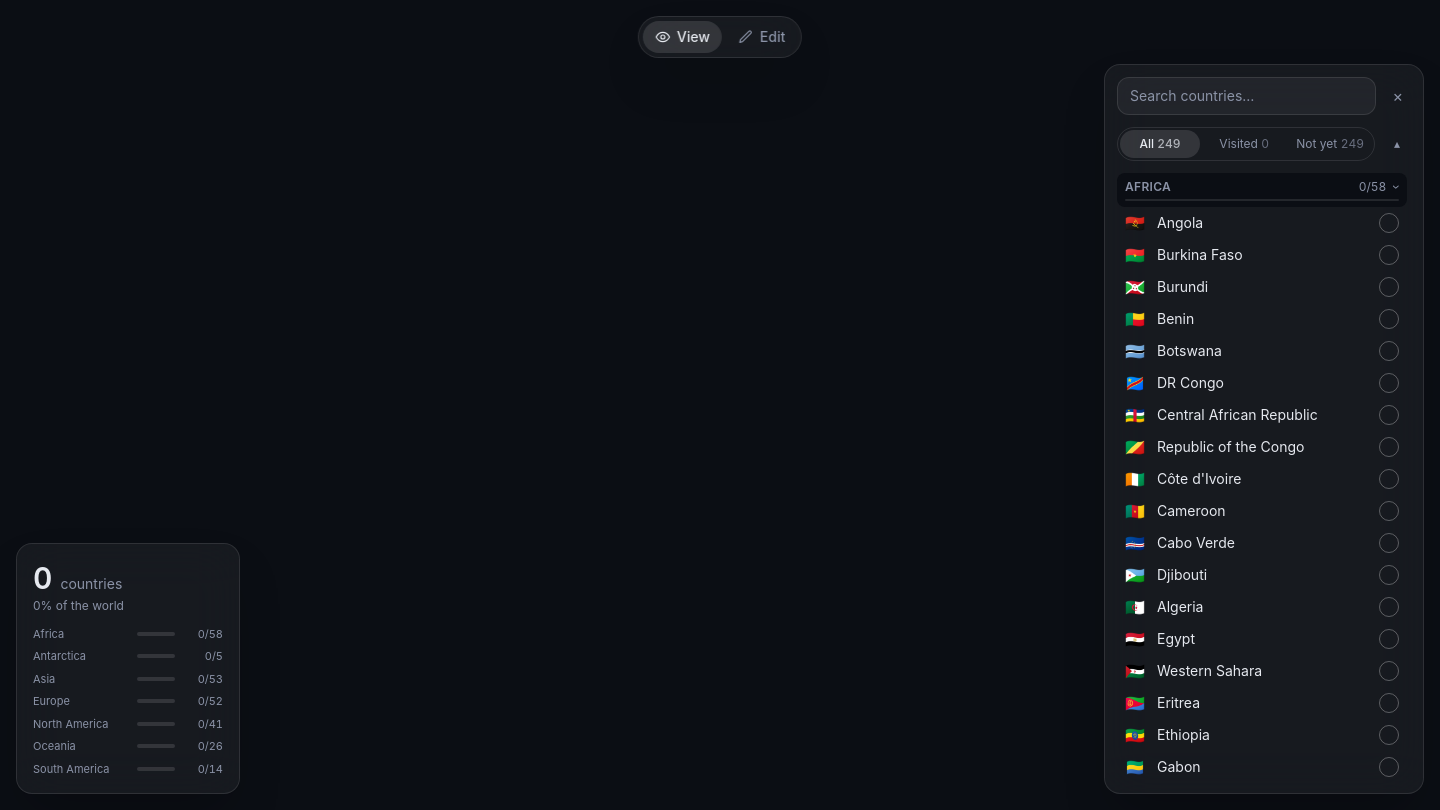
Test: HomePage › folds and unfolds every region at once
This screenshot has width=1440, height=810.
Click the button with test id "fold-all": (1397, 144) [1383, 130, 1411, 158]
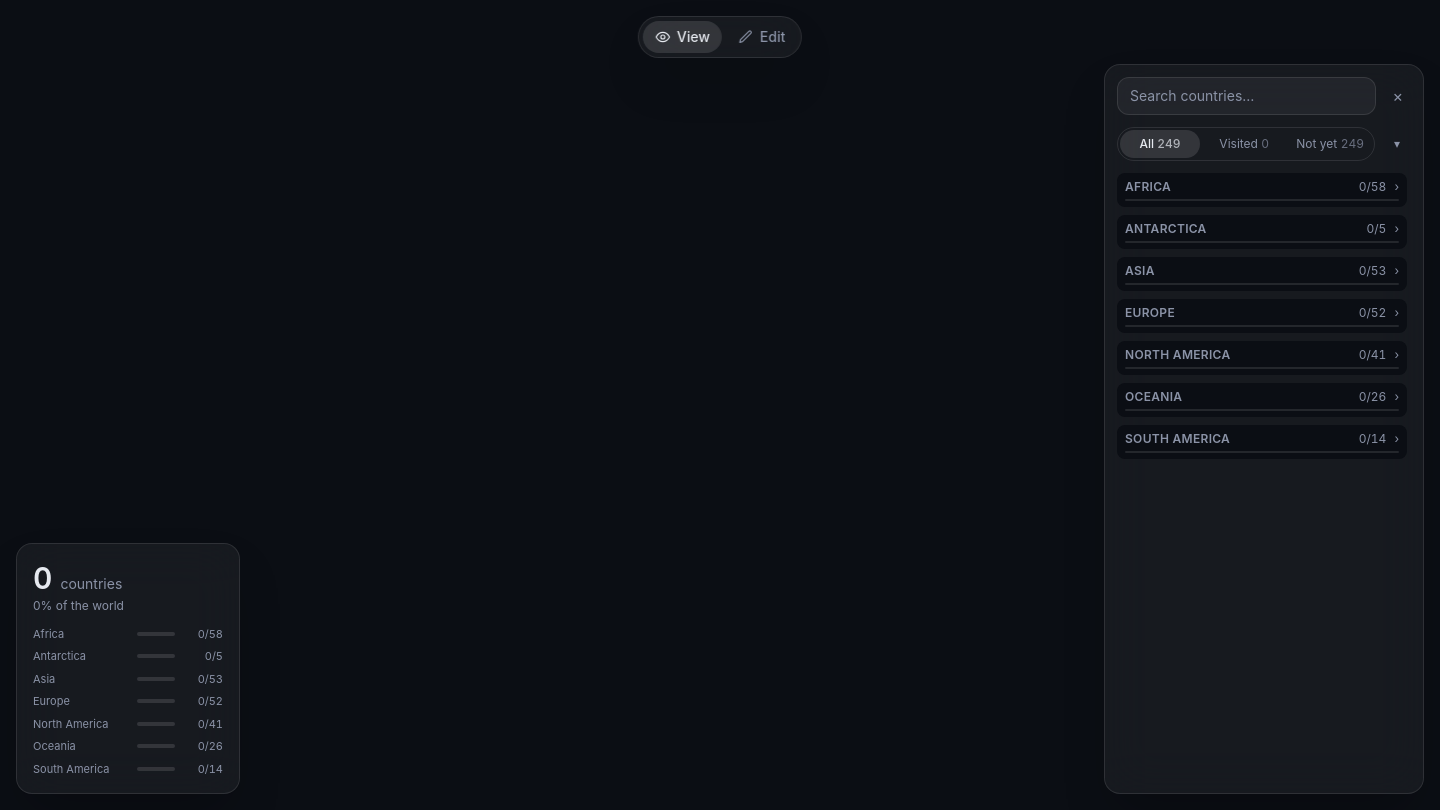
Click the button with test id "fold-all": (1397, 144) [1383, 130, 1411, 158]
(page scrolled)
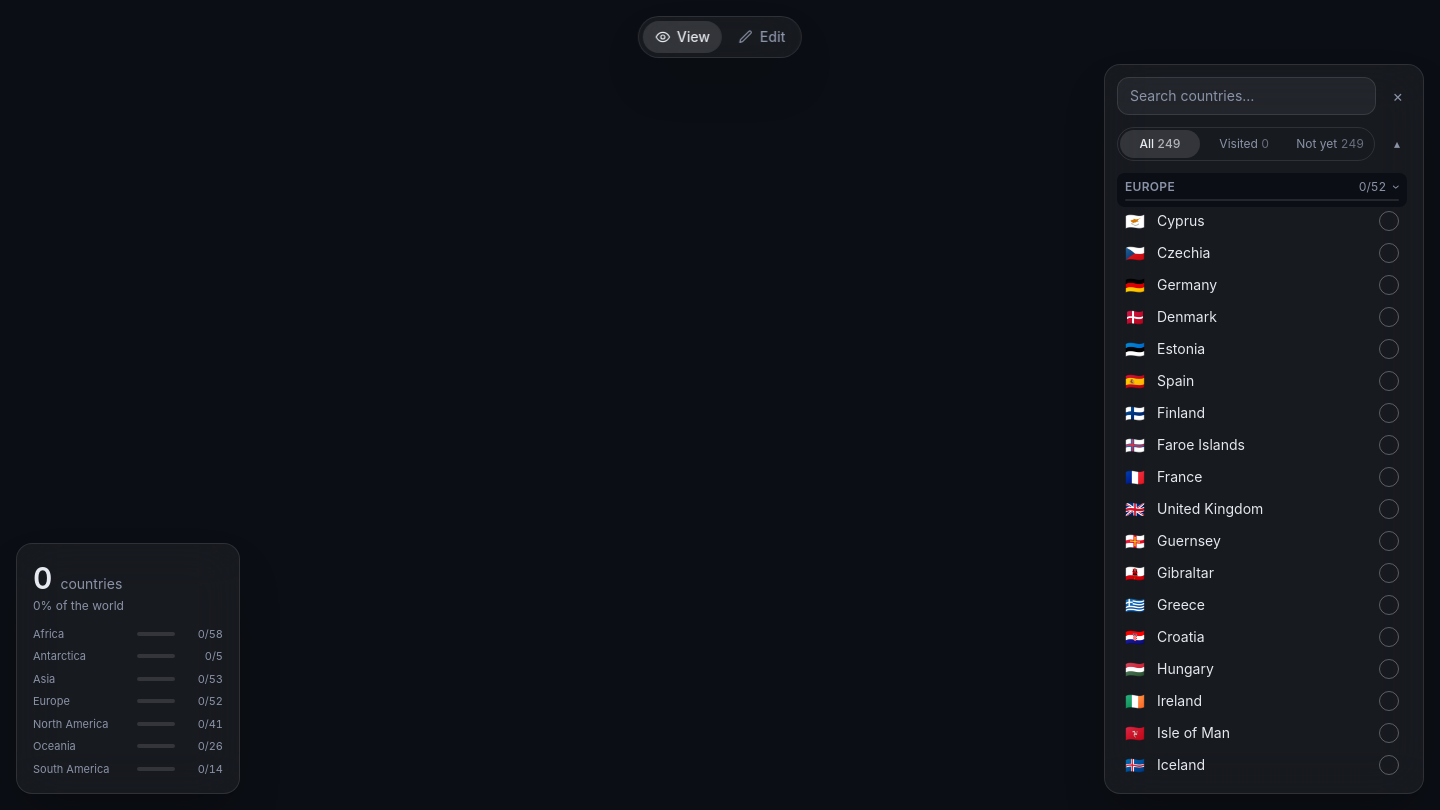
Check: the button with test id "country-row-FR" is shown, box [1117, 461, 1371, 493]
